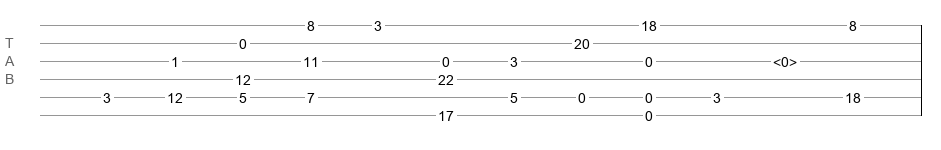0: (239, 36, 247, 46), (442, 54, 450, 64), (578, 90, 586, 100), (645, 108, 653, 118), (645, 90, 653, 100), (645, 54, 653, 64)
1: (171, 54, 179, 64)
11: (303, 54, 319, 64)
12: (167, 90, 183, 100), (235, 72, 251, 82)
17: (438, 108, 454, 118)
18: (641, 18, 657, 28), (845, 90, 861, 100)
20: (574, 36, 590, 46)
22: (438, 72, 454, 82)
3: (103, 90, 111, 100), (374, 18, 382, 28), (510, 54, 518, 64), (713, 90, 721, 100)
5: (239, 90, 247, 100), (510, 90, 518, 100)
7: (307, 90, 315, 100)
8: (307, 18, 315, 28), (849, 18, 857, 28)
harmonic: (773, 54, 797, 64)
